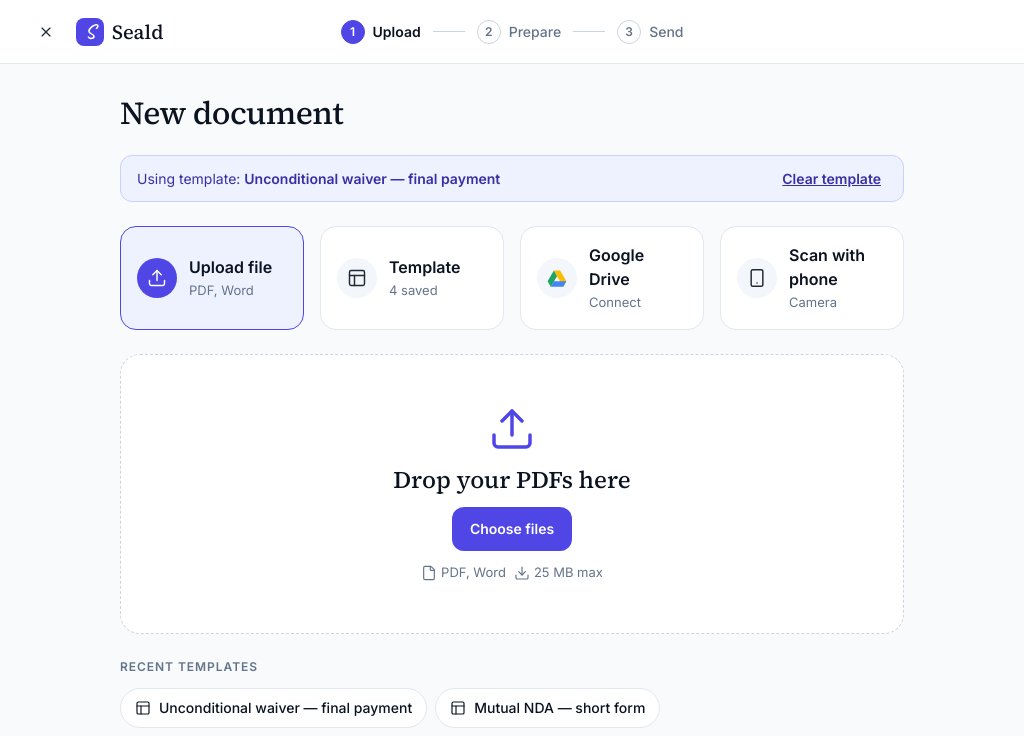
Scenario: UploadRoute (template integration) › Clear template strips the query arg from the URL
The width and height of the screenshot is (1024, 736).
Click the button "Clear template" at (832, 179), box [776,169,887,188]
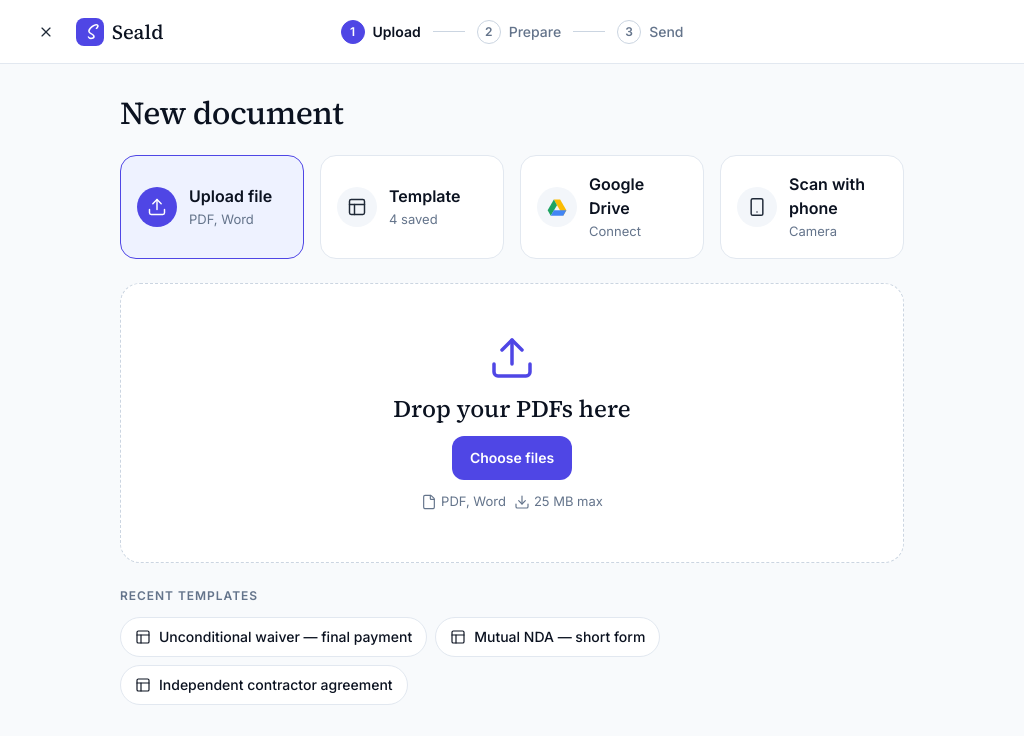
Now the button "Clear template" is gone
